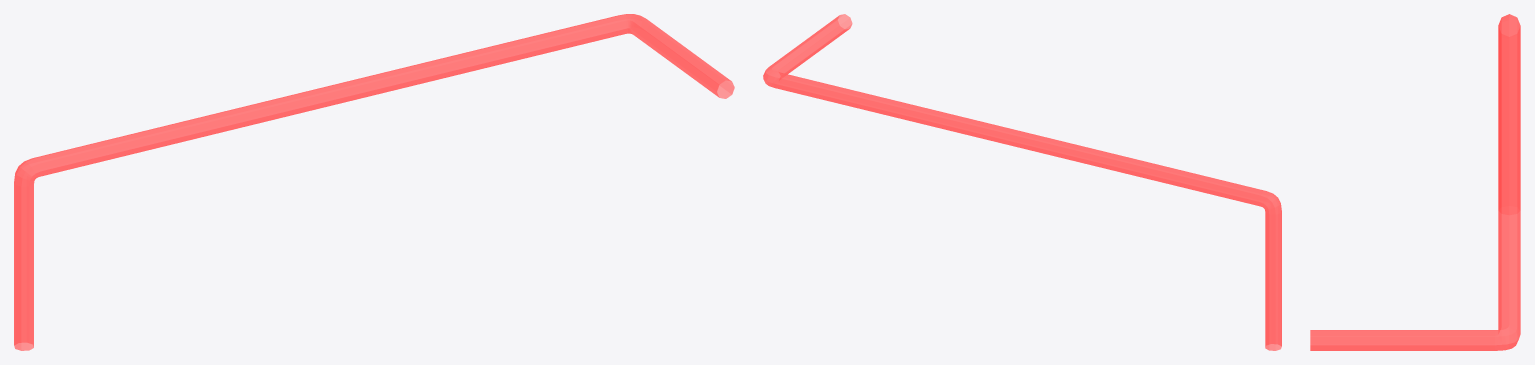
Rendered from redTube.fbx.
3 renders of one model, left to right at view 1: azimuth 30°, elevation 25°; view 2: azimuth 150°, elevation 25°; view 3: azimuth 270°, elevation 25°, orthographic. The views are drawn at different scales.
Parts seen in each view (by area): view 1: redTube; view 2: redTube; view 3: redTube.
Part boxes in pixels (x1,y1,x2,y2): redTube: (14,14,734,350); redTube: (763,14,1281,350); redTube: (1310,14,1520,350).
Size of the model in its own units: 7000 by 1981 by 1892.
